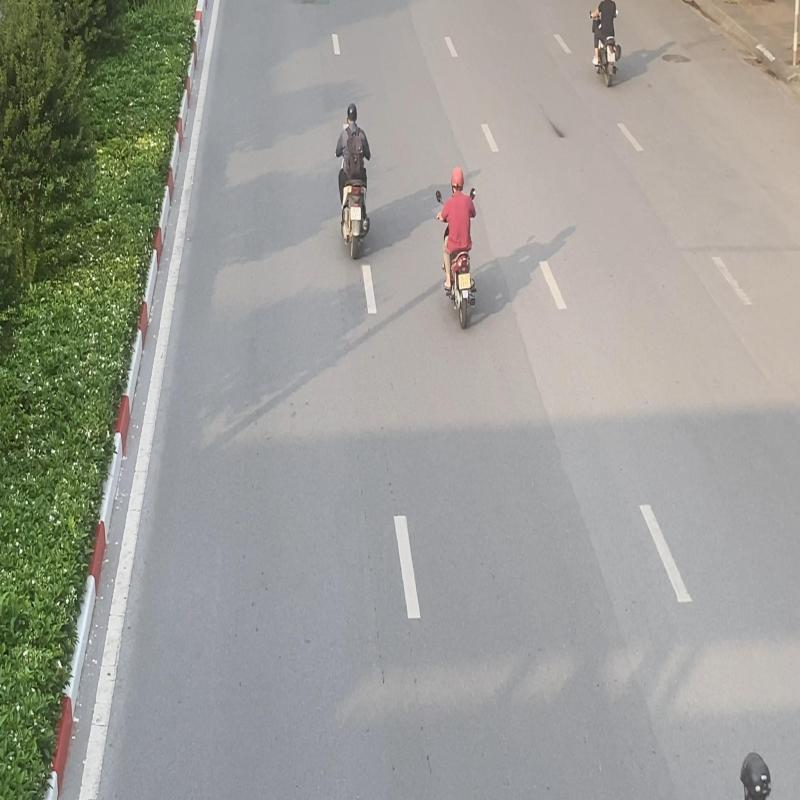helmet: (450, 166, 465, 192), (346, 102, 358, 123)
licenseplate: (457, 272, 472, 290), (350, 206, 362, 220)
motorcyclist: (435, 166, 476, 330), (334, 101, 371, 260)
